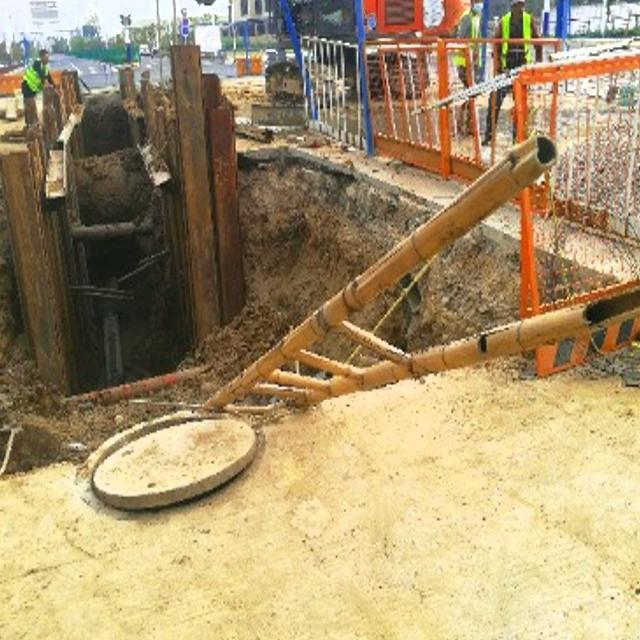uncovered: (70, 406, 258, 513)
